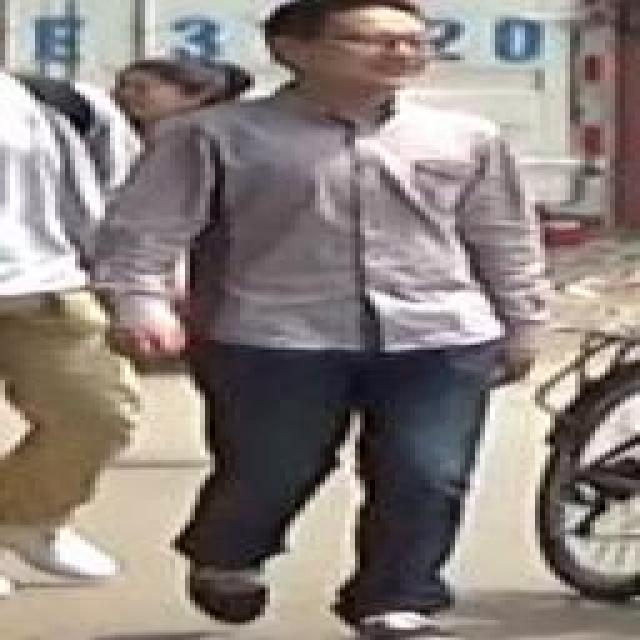adult: (80, 1, 558, 640), (0, 52, 135, 612), (106, 58, 256, 134)
